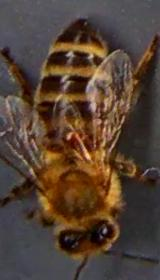varroa_mite: (60, 127, 86, 145)
